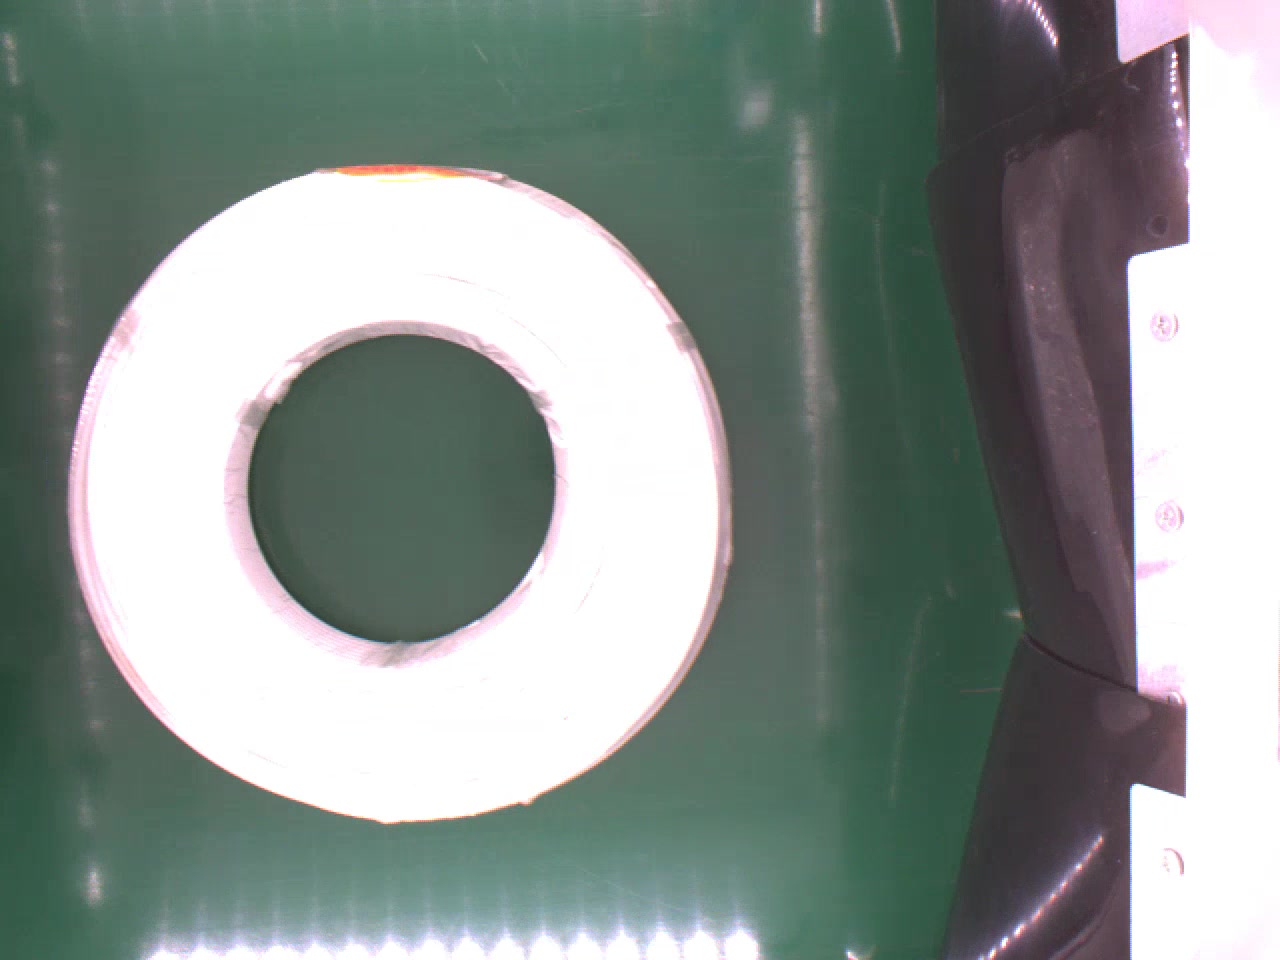white: (62, 157, 738, 826)
